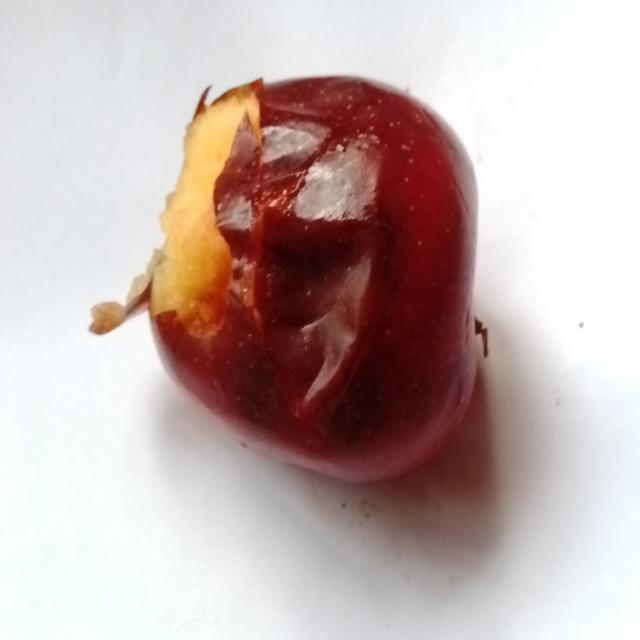apple: (94, 78, 476, 480)
